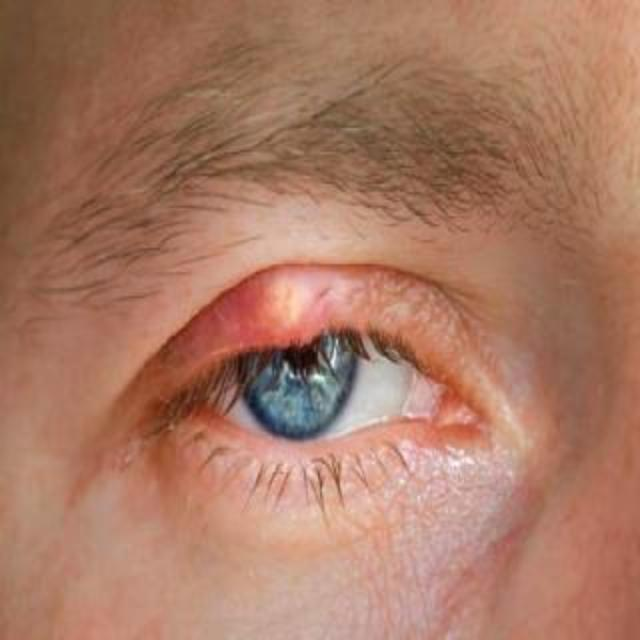Stye: (204, 245, 368, 385)
